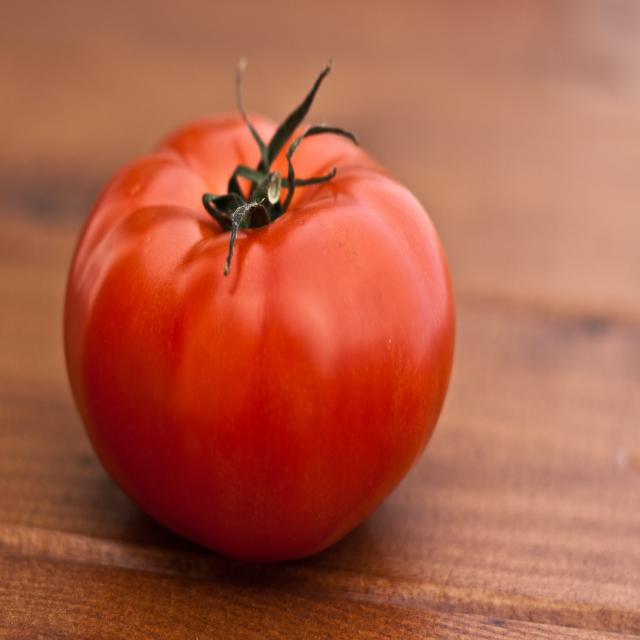Tomato: (73, 100, 451, 528)
